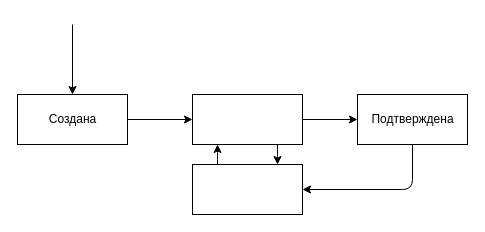
Some shapes in this 485 by 232 pixel diagram are drawn without their labels. Each missing label, with the centre of its shape:
На модерации: point 247,119
Отклонена: point 247,189
